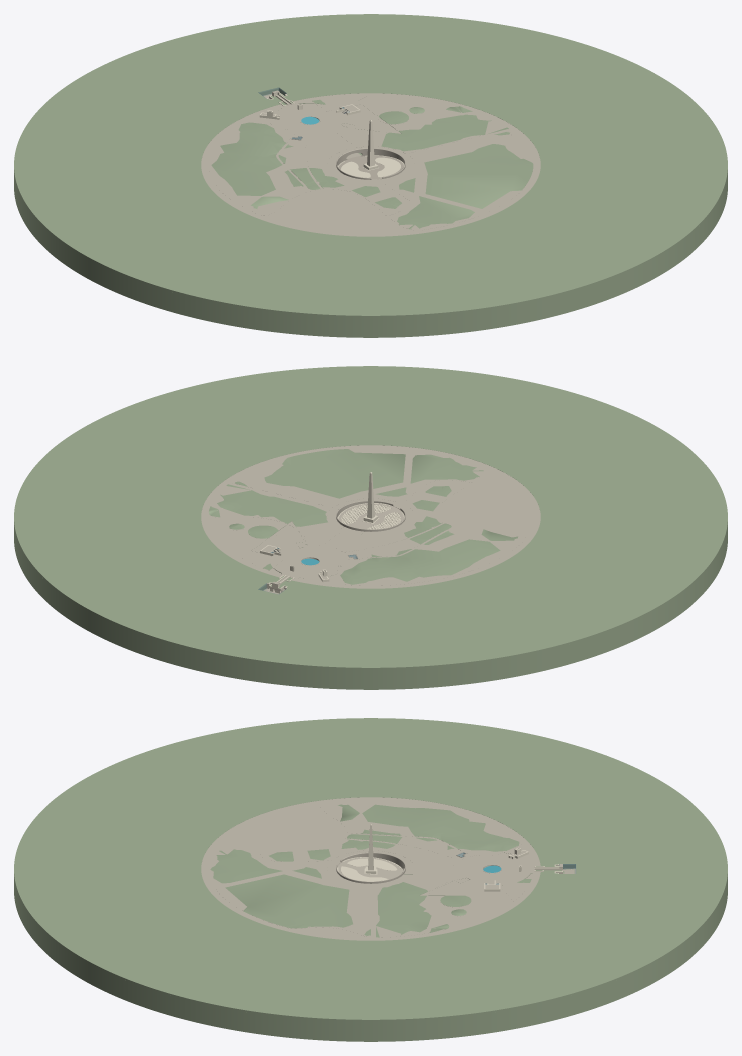
Rendered from moe-site.glb.
The picture shows the model from 3 angles, top to bottom: view 1: azimuth 30°, elevation 25°; view 2: azimuth 150°, elevation 25°; view 3: azimuth 270°, elevation 25°; orthographic projection.
Parts seen in each view (by area): view 1: Landscape, Stone, Paths, Monument; view 2: Landscape, Stone, Paths, Monument, Plaster; view 3: Landscape, Stone, Paths, Monument.
Part boxes in pixels (bbox=[...]): Landscape: bbox=[14, 14, 727, 337]; Stone: bbox=[201, 90, 540, 236]; Paths: bbox=[208, 96, 532, 230]; Monument: bbox=[338, 120, 404, 177]; Landscape: bbox=[14, 366, 727, 689]; Stone: bbox=[201, 445, 540, 594]; Paths: bbox=[208, 448, 529, 585]; Monument: bbox=[337, 472, 404, 529]; Plaster: bbox=[260, 545, 356, 593]; Landscape: bbox=[14, 718, 727, 1041]; Stone: bbox=[201, 797, 575, 940]; Paths: bbox=[208, 800, 529, 937]; Monument: bbox=[337, 824, 402, 881].
Size of the model in its own units: 449 by 46.64 by 449.
